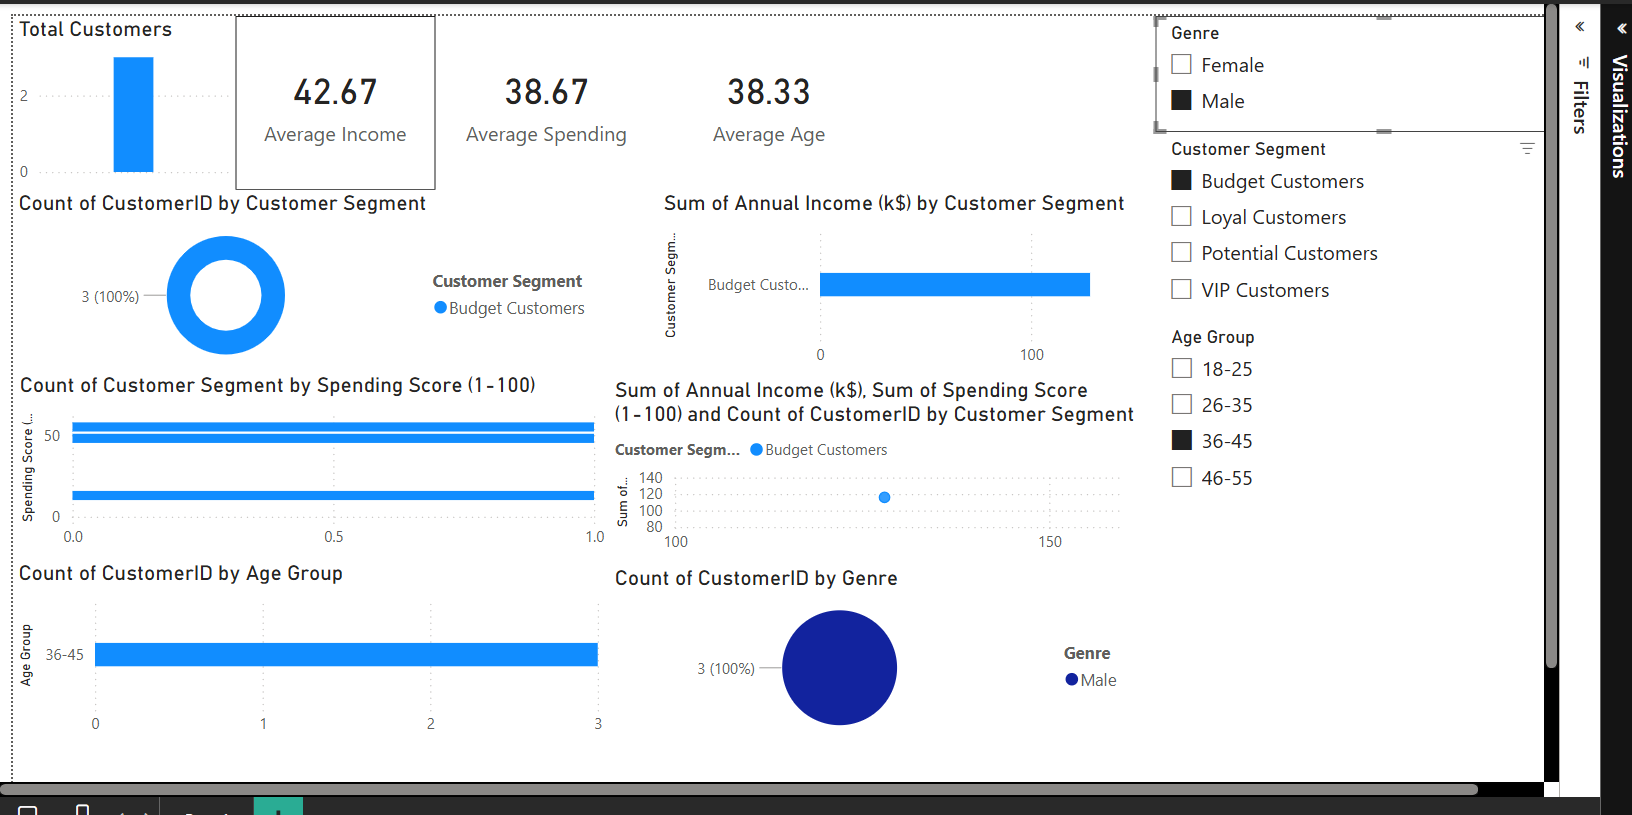

The page's visual inventory and layout, read from the dashboard file:
{"tool":"powerbi","page":{"name":"Page 1","canvas":[1280,720],"ordinal":0},"visuals":[{"type":"clusteredColumnChart","fields":{"Y":["Mall_Customers.Total Customers"]},"box":[0,0,178,139],"z":0},{"type":"card","fields":{"Values":["Mall_Customers.Average Income"]},"box":[178,0,160,139],"z":1},{"type":"card","fields":{"Values":["Mall_Customers.Average Spending"]},"box":[338,0,178,139],"z":2},{"type":"card","fields":{"Values":["Mall_Customers.Average Age"]},"box":[516,0,178,139],"z":3},{"type":"donutChart","fields":{"Category":["Mall_Customers.Customer Segment"],"Y":["CountNonNull(Mall_Customers.CustomerID)"]},"box":[0,139,477,150],"z":4},{"type":"clusteredBarChart","fields":{"Category":["Mall_Customers.Customer Segment"],"Y":["Sum(Mall_Customers.Annual Income (k$))"]},"box":[516,139,398,150],"z":5},{"type":"clusteredBarChart","fields":{"Y":["CountNonNull(Mall_Customers.Customer Segment)"],"Category":["Mall_Customers.Spending Score (1-100)"]},"box":[1,285,477,150],"z":6},{"type":"scatterChart","fields":{"X":["Sum(Mall_Customers.Annual Income (k$))"],"Y":["Sum(Mall_Customers.Spending Score (1-100))"],"Series":["Mall_Customers.Customer Segment"]},"box":[477,289,427,150],"z":7},{"type":"clusteredBarChart","fields":{"Category":["Mall_Customers.Age Group"],"Y":["CountNonNull(Mall_Customers.CustomerID)"]},"box":[0,435,477,150],"z":8},{"type":"pieChart","fields":{"Category":["Mall_Customers.Genre"],"Y":["CountNonNull(Mall_Customers.CustomerID)"]},"box":[477,439,427,146],"z":9},{"type":"slicer","fields":{"Values":["Mall_Customers.Genre"]},"box":[913.8,0,366.2,92.5],"z":10},{"type":"slicer","fields":{"Values":["Mall_Customers.Customer Segment"]},"box":[913.8,92.5,366.2,150],"z":11},{"type":"slicer","fields":{"Values":["Mall_Customers.Age Group"]},"box":[913.8,242.5,366.2,150],"z":12}]}

Visuals, with their boxes on the page's 1280x720 design canvas (x1, y1, x2, y2). These are canvas units, not pixel positions in the 1632x815 screenshot, which may show the page scaled, cropped or inside an application window:
clusteredColumnChart - Mall_Customers.Total Customers: (x1=0, y1=0, x2=178, y2=139)
card - Mall_Customers.Average Income: (x1=178, y1=0, x2=338, y2=139)
card - Mall_Customers.Average Spending: (x1=338, y1=0, x2=516, y2=139)
card - Mall_Customers.Average Age: (x1=516, y1=0, x2=694, y2=139)
donutChart - Mall_Customers.Customer Segment x CountNonNull(Mall_Customers.CustomerID): (x1=0, y1=139, x2=477, y2=289)
clusteredBarChart - Mall_Customers.Customer Segment x Sum(Mall_Customers.Annual Income (k$)): (x1=516, y1=139, x2=914, y2=289)
clusteredBarChart - CountNonNull(Mall_Customers.Customer Segment) x Mall_Customers.Spending Score (1-100): (x1=1, y1=285, x2=478, y2=435)
scatterChart - Sum(Mall_Customers.Annual Income (k$)) x Sum(Mall_Customers.Spending Score (1-100)): (x1=477, y1=289, x2=904, y2=439)
clusteredBarChart - Mall_Customers.Age Group x CountNonNull(Mall_Customers.CustomerID): (x1=0, y1=435, x2=477, y2=585)
pieChart - Mall_Customers.Genre x CountNonNull(Mall_Customers.CustomerID): (x1=477, y1=439, x2=904, y2=585)
slicer - Mall_Customers.Genre: (x1=914, y1=0, x2=1280, y2=92)
slicer - Mall_Customers.Customer Segment: (x1=914, y1=92, x2=1280, y2=242)
slicer - Mall_Customers.Age Group: (x1=914, y1=242, x2=1280, y2=392)
